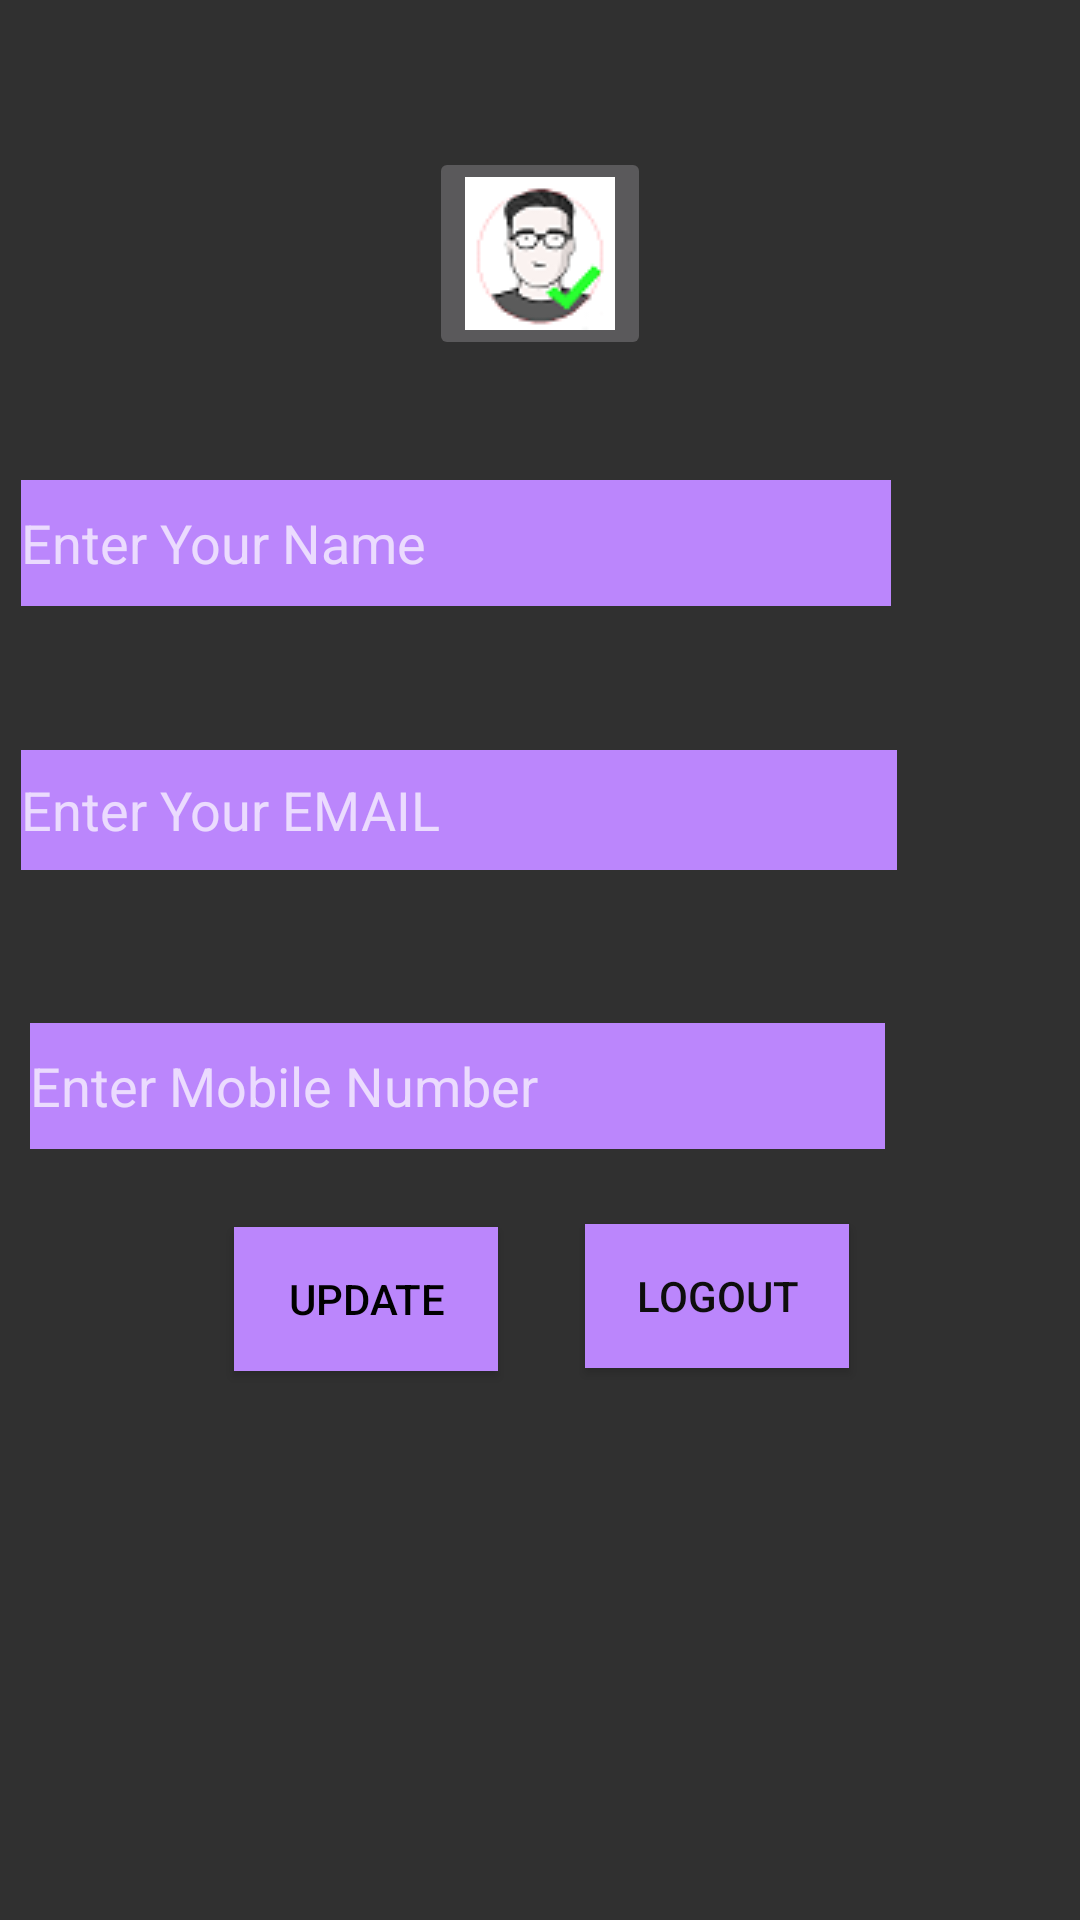

Point at icon controls on the screen. Image size 1080 x 1920, points as (x=x, y=y).
pro: (x=540, y=253)
